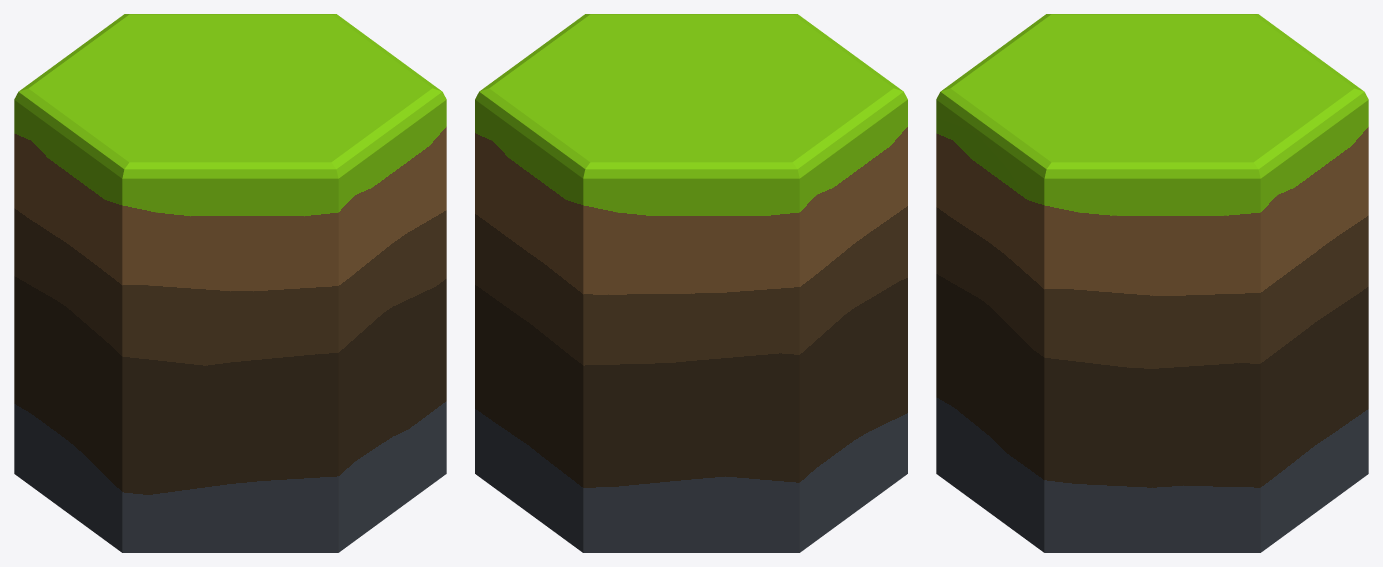
File: HexTileFlat_Grass.glb
The picture shows the model from 3 angles, left to right: view 1: azimuth 30°, elevation 25°; view 2: azimuth 150°, elevation 25°; view 3: azimuth 270°, elevation 25°; orthographic projection.
Parts seen in each view (by area): view 1: HexTileFlat_Grass; view 2: HexTileFlat_Grass; view 3: HexTileFlat_Grass.
Boxes of the visible parts, <box> form: HexTileFlat_Grass: <box>14,14,446,552</box>; HexTileFlat_Grass: <box>475,14,907,552</box>; HexTileFlat_Grass: <box>936,14,1368,552</box>.
Size of the model in its own units: 1.73 by 1.96 by 2.
Materials: 1 (1 with a texture image).
